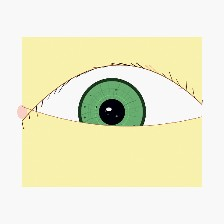pinguecula_lesion: (13, 89, 63, 129)
